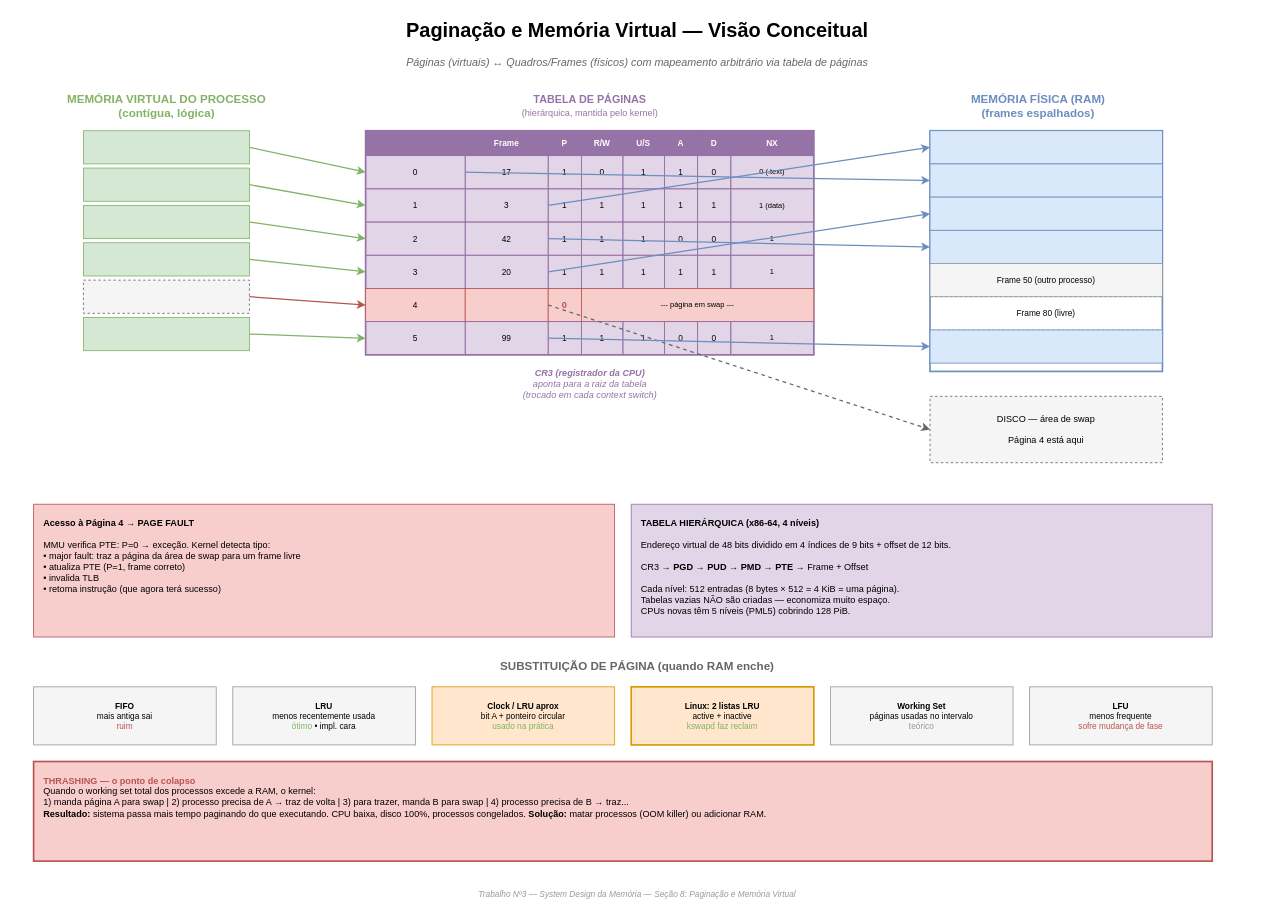
The diagram is 1273 pixels wide and 916 high, and some of its shapes have lost their labels. Here are the shapes that lost their labels. From the top down, the box of each, then its label:
(83, 130, 249, 164): Página 0
(365, 130, 465, 156): Página Virt.
(929, 130, 1162, 164): Frame 3 (Página 1)
(83, 167, 249, 201): Página 1
(929, 163, 1162, 197): Frame 17 (Página 0)
(83, 205, 249, 239): Página 2
(929, 196, 1162, 230): Frame 20 (Página 3)
(83, 242, 249, 276): Página 3
(929, 229, 1162, 264): Frame 42 (Página 2)
(83, 279, 249, 313): Página 4 (em disco)
(464, 288, 548, 322): (disco)
(83, 317, 249, 351): Página 5
(929, 329, 1162, 363): Frame 99 (Página 5)
